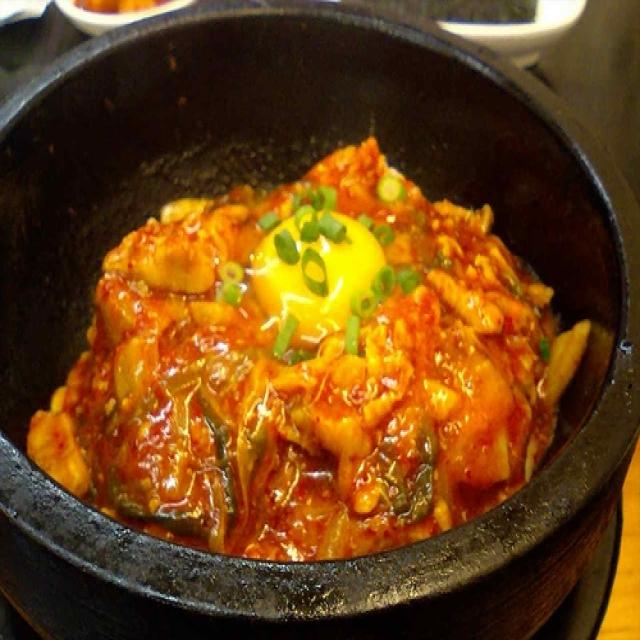鸡肉料理 含炸鸡: (9, 5, 635, 618)
